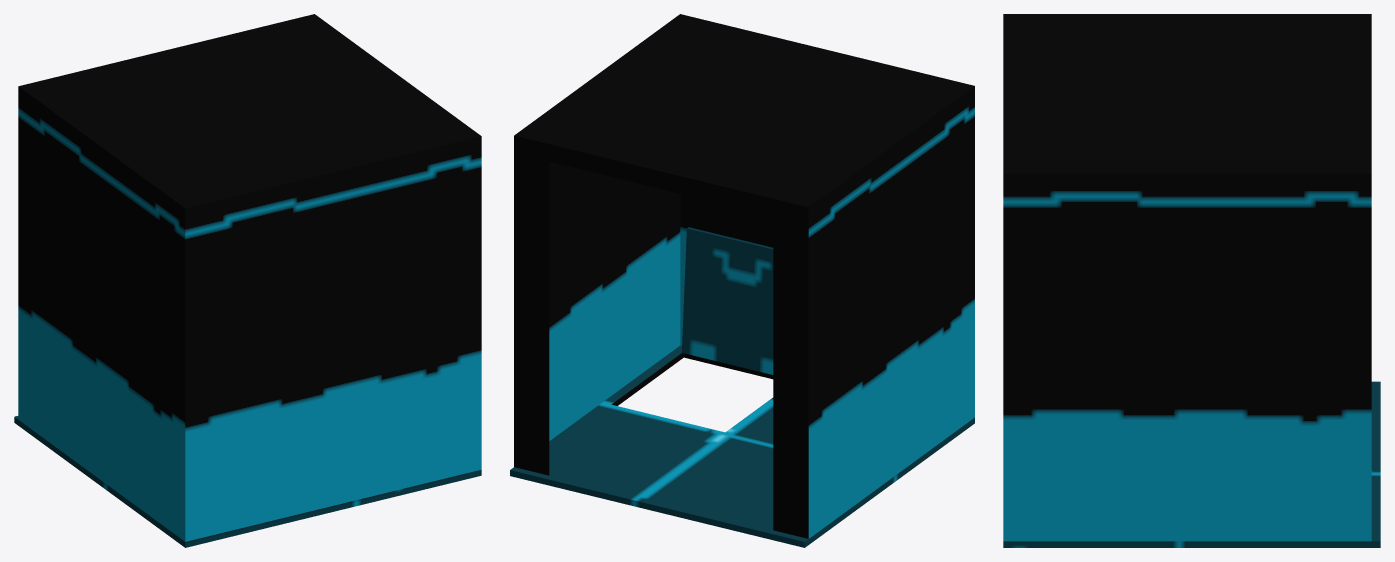
Rendered from reallift.glb.
3 renders of one model, left to right at view 1: azimuth 30°, elevation 25°; view 2: azimuth 150°, elevation 25°; view 3: azimuth 270°, elevation 25°, orthographic. The views are drawn at different scales.
Parts seen in each view (by area): view 1: ElevatorCar, elevator_floor_open; view 2: ElevatorCar, elevator_floor_open; view 3: ElevatorCar, elevator_floor_open.
Part boxes in pixels (box(x1,y1,x2,y2)): ElevatorCar: box(18, 14, 481, 541); elevator_floor_open: box(14, 416, 481, 547); ElevatorCar: box(514, 14, 974, 538); elevator_floor_open: box(510, 227, 974, 547); ElevatorCar: box(1003, 14, 1371, 541); elevator_floor_open: box(1003, 381, 1380, 547).
Bounding box in the file's own units: 2.5 × 2.74 × 2.5.
Materials: 2 (2 with a texture image).
